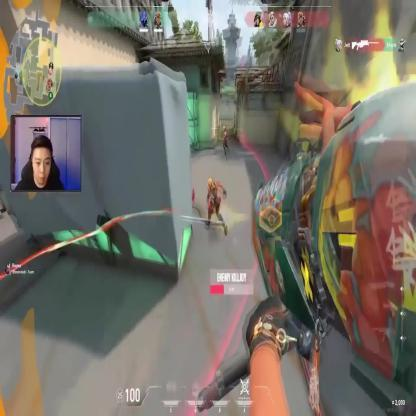enemy: (204, 175, 228, 234), (222, 123, 230, 161)
enemy_head: (208, 176, 214, 188), (222, 126, 226, 130)
